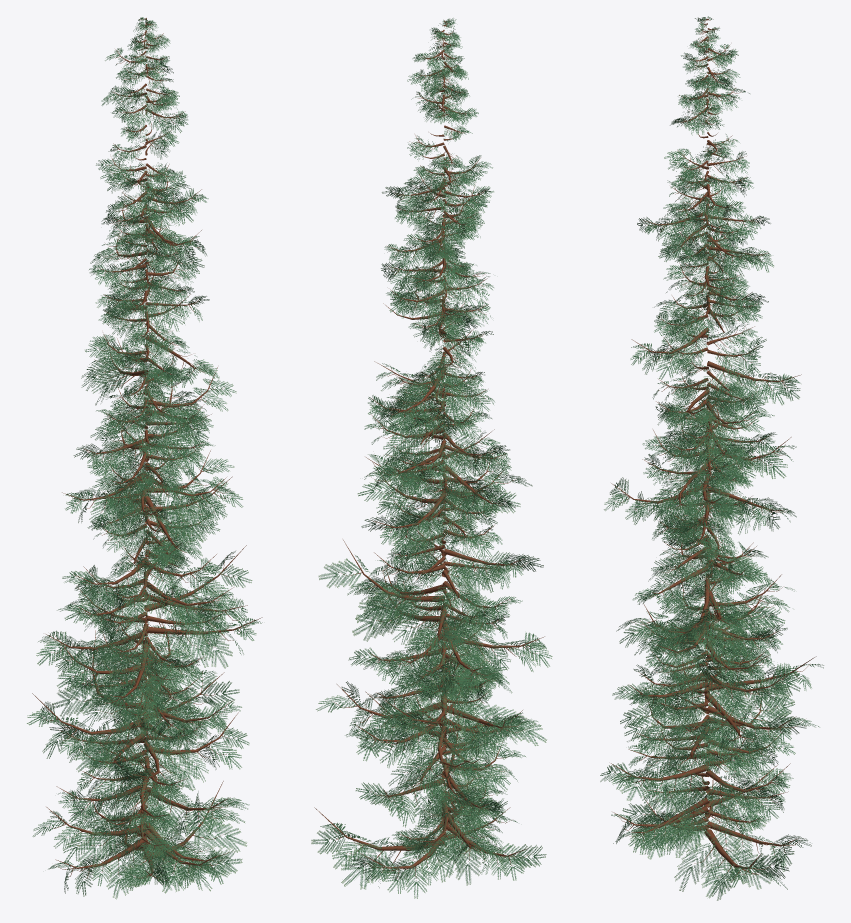
The model's file is forest-fir-lod1.meshopt.glb.
3 views of the same model, side by side, from view 1: azimuth 30°, elevation 25°; view 2: azimuth 150°, elevation 25°; view 3: azimuth 270°, elevation 25° (orthographic). The views are drawn at different scales.
Parts seen in each view (by area): view 1: redwood-crown; view 2: redwood-crown; view 3: redwood-crown.
Boxes of the visible parts, left/top/right/bottom form: redwood-crown: left=27, top=17, right=262, bottom=899; redwood-crown: left=311, top=18, right=552, bottom=898; redwood-crown: left=600, top=16, right=823, bottom=900.
Size of the model in its own units: 13.87 by 50.65 by 12.94.
Materials: 4 (3 with a texture image).
